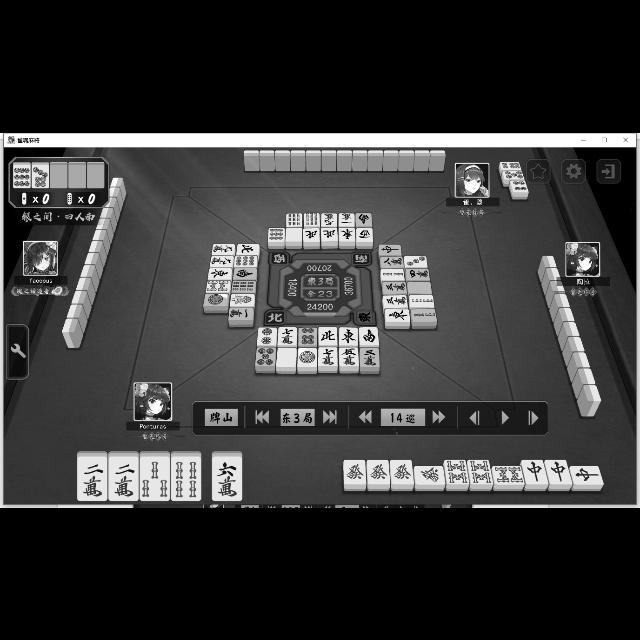1m: (230, 306, 254, 320), (338, 212, 356, 226)
1p: (202, 292, 228, 306), (298, 348, 316, 367)
1s: (229, 294, 255, 306)
2m: (77, 457, 107, 501), (108, 456, 138, 500)
2p: (258, 326, 276, 346)
2s: (410, 294, 434, 308), (412, 308, 436, 322), (380, 268, 404, 280)
3m: (383, 294, 409, 308), (382, 280, 408, 294), (360, 347, 380, 365)
3p: (404, 255, 428, 267)
3s: (140, 456, 170, 500)
4m: (405, 267, 431, 279)
4p: (510, 180, 528, 190)
4s: (171, 456, 201, 500)
5m: (339, 347, 359, 365)
5p: (255, 346, 275, 366), (502, 169, 524, 179)
6m: (212, 456, 242, 500)
6p: (299, 327, 317, 345), (500, 161, 522, 169)
7m: (318, 346, 338, 366), (278, 326, 296, 344)
7p: (32, 165, 49, 188)
8m: (380, 256, 404, 268)
8s: (492, 464, 526, 484), (468, 458, 494, 484), (444, 460, 470, 484), (206, 280, 230, 292)
9m: (211, 242, 235, 254), (209, 256, 233, 266), (321, 212, 337, 225)
9p: (14, 165, 31, 188), (234, 254, 256, 266), (268, 227, 284, 241)
9s: (232, 280, 256, 292), (286, 212, 302, 226), (304, 212, 320, 225)
chun: (570, 464, 604, 484), (545, 459, 573, 483), (521, 460, 549, 482), (378, 243, 402, 254)
haku: (276, 346, 296, 366), (407, 280, 433, 294), (284, 227, 302, 241)
hatsu: (391, 458, 414, 484), (414, 465, 446, 483), (344, 458, 366, 484), (366, 460, 389, 482)
nan: (359, 326, 378, 344), (233, 267, 257, 279), (356, 212, 372, 224)
pe: (319, 326, 337, 344), (236, 242, 258, 254), (320, 228, 338, 240), (303, 228, 319, 240)
sha: (357, 227, 373, 241)
tou: (384, 308, 410, 322), (339, 326, 357, 346), (207, 267, 231, 279), (339, 227, 355, 239)
